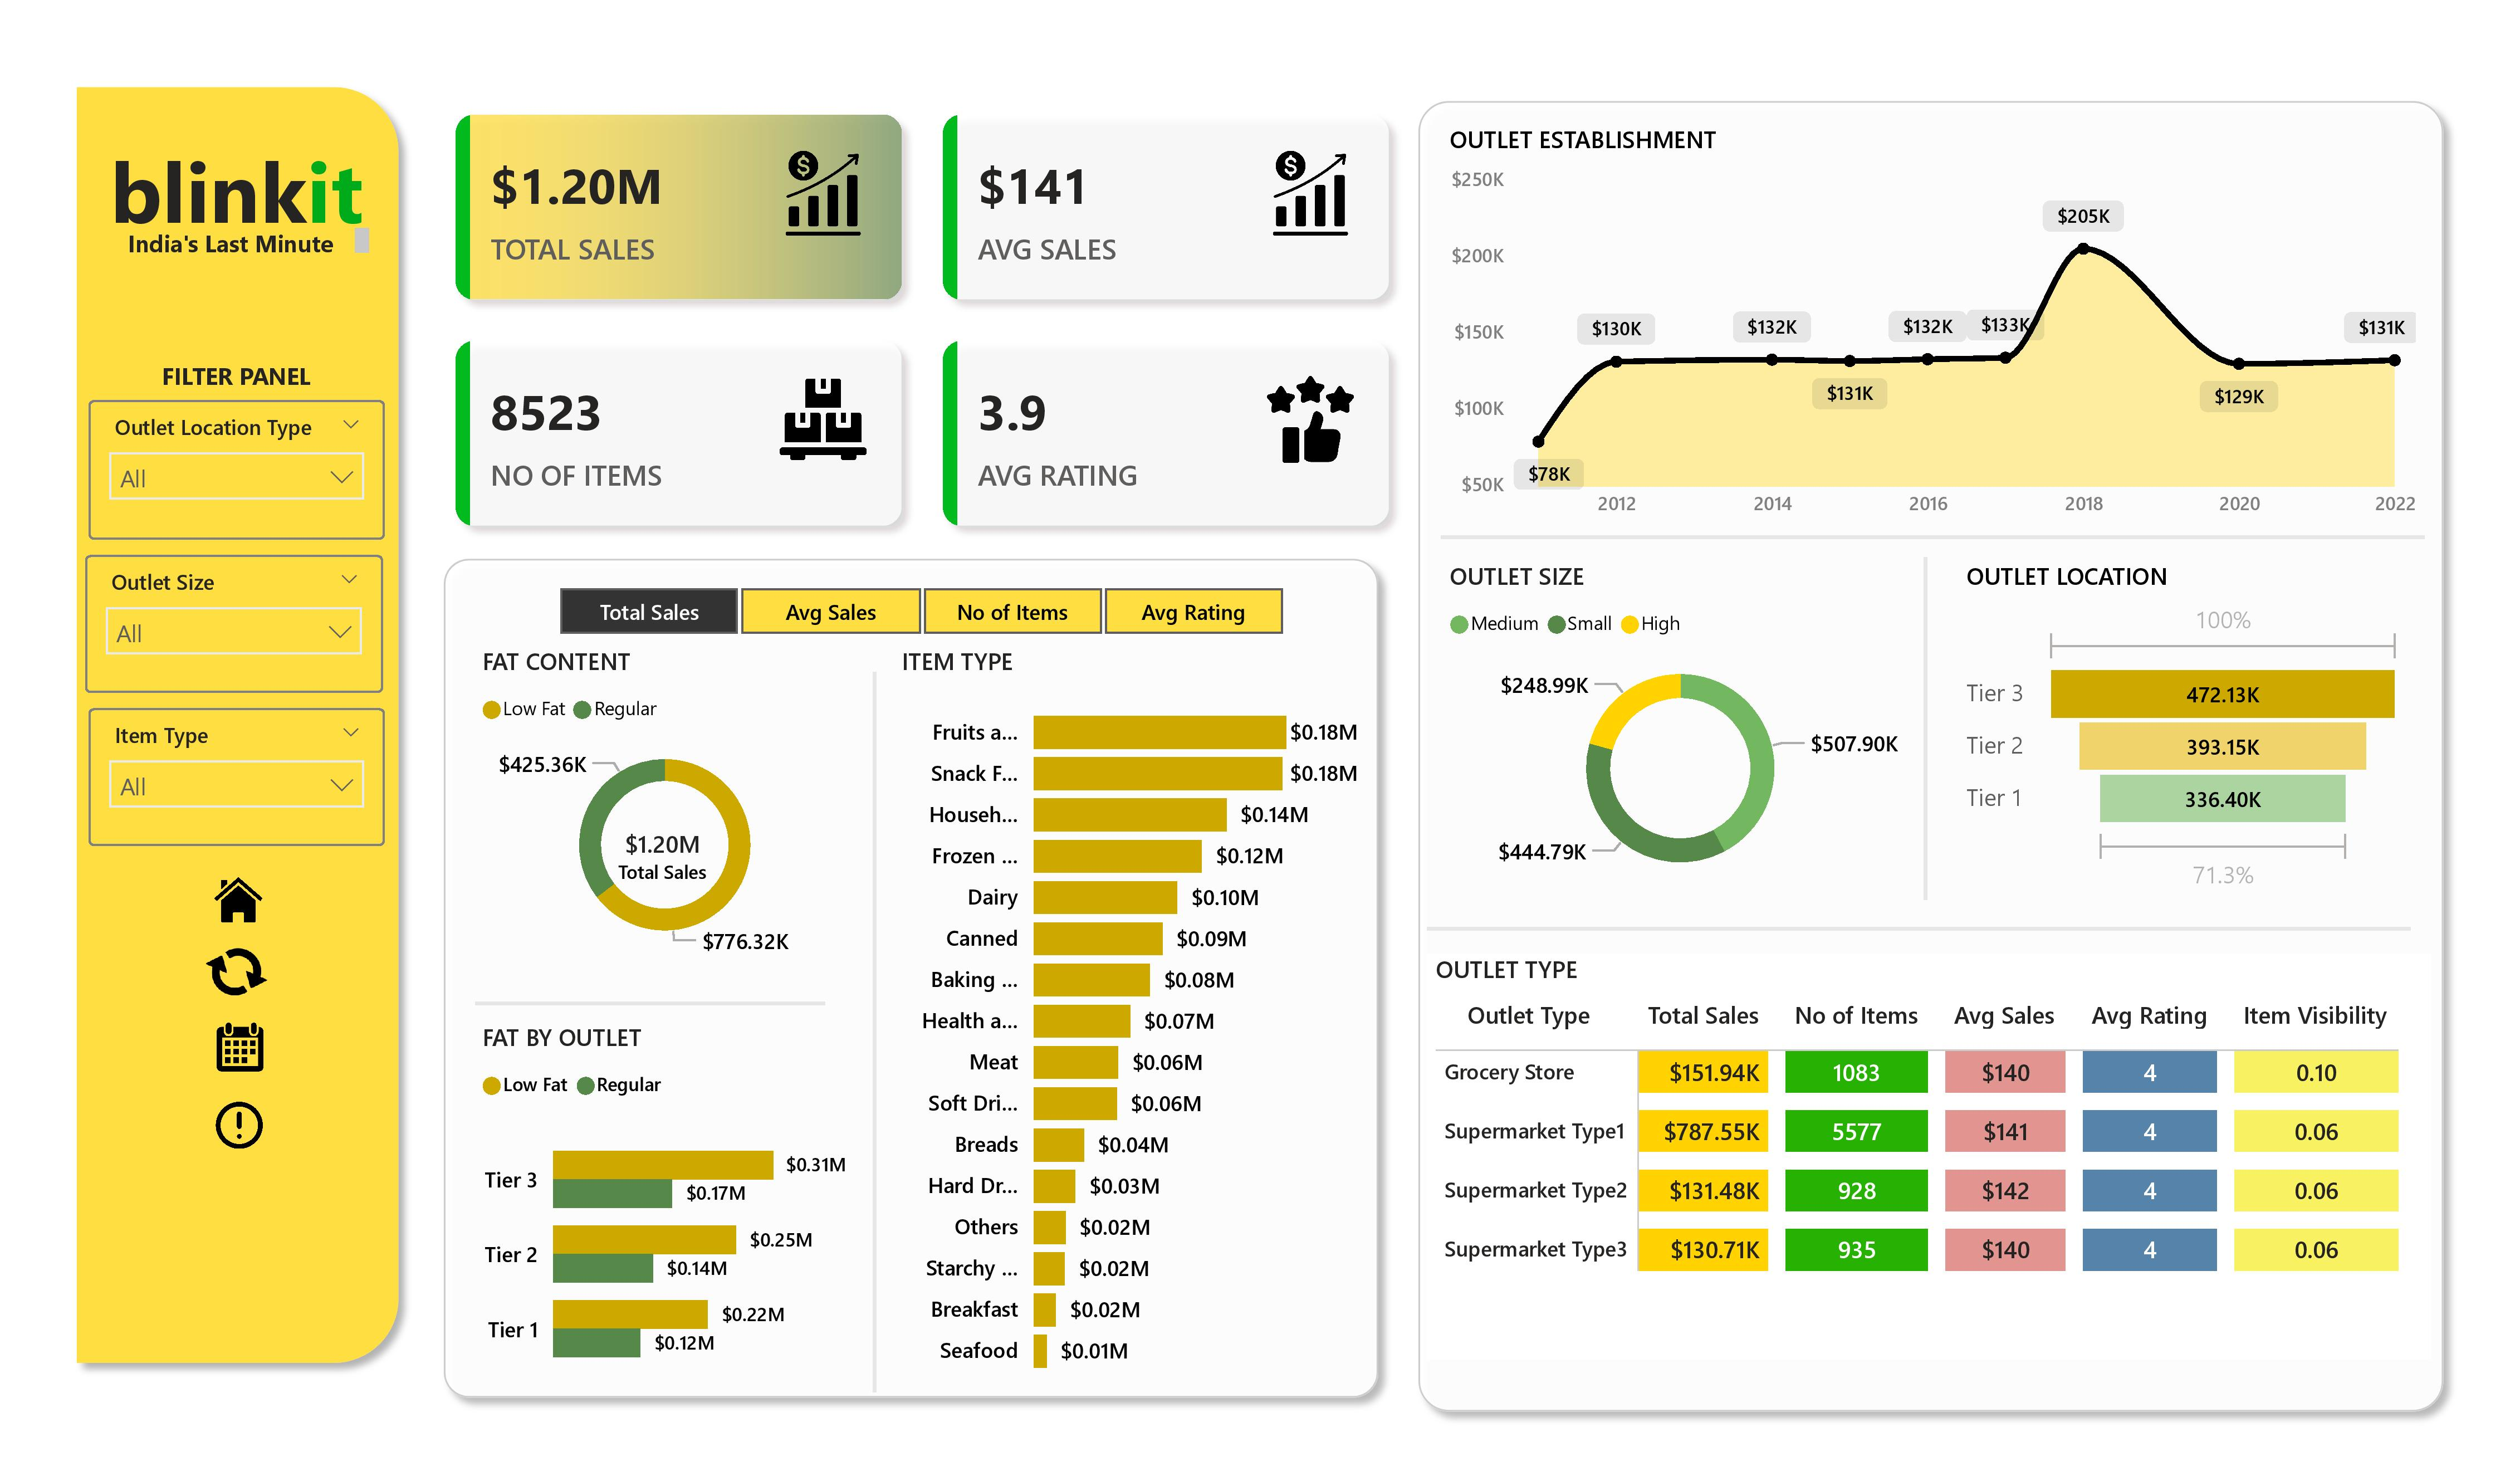

The dashboard page shown, as its layout file describes it:
{"tool":"powerbi","page":{"name":"Blinkit Dashboard","canvas":[1400,800],"ordinal":0},"visuals":[{"type":"shape","box":[10.7,17.4,203.8,750.7],"z":0},{"type":"textbox","box":[27,46.5,169.6,79.5],"z":1000},{"type":"textbox","box":[32.2,101.9,160.9,24.1],"z":2000},{"type":"cardVisual","fields":{"Data":["BlinkIT Grocery Data.Total Sales","BlinkIT Grocery Data.Avg Sales","BlinkIT Grocery Data.No of Items","BlinkIT Grocery Data.Avg Rating"]},"box":[221.2,25.5,571,270.8],"z":3000},{"type":"shape","box":[221.9,288,555.4,499.6],"z":4000},{"type":"slicer","title":"FAT CONTENT","fields":{"Values":["BlinkIT Grocery Data.Outlet Location Type"]},"box":[26.8,206.4,170.2,79.1],"z":5000},{"type":"slicer","fields":{"Values":["Metrics.Metrics"]},"box":[272.1,307,465.1,40.2],"z":6000},{"type":"cardVisual","fields":{"Data":["BlinkIT Grocery Data.Total Sales"]},"box":[312.3,434.3,89.8,59],"z":7000},{"type":"clusteredBarChart","title":"FAT BY OUTLET","fields":{"Y":["BlinkIT Grocery Data.Total Sales"],"Category":["BlinkIT Grocery Data.Outlet Location Type"],"Series":["BlinkIT Grocery Data.Item Fat Content"]},"box":[248.3,562.8,218.9,217.5],"z":8000},{"type":"shape","box":[249.3,538.9,201.1,26.8],"z":9000},{"type":"shape","box":[467.8,361.9,21.4,414.2],"z":10000},{"type":"barChart","title":"ITEM TYPE","fields":{"Y":["BlinkIT Grocery Data.Total Sales"],"Category":["BlinkIT Grocery Data.Item Type"]},"box":[489.3,347.2,272.1,429],"z":11000},{"type":"shape","box":[781.5,25.5,607.2,770.8],"z":12000},{"type":"lineChart","title":"OUTLET ESTABLISHMENT","fields":{"Y":["BlinkIT Grocery Data.Total Sales"],"Category":["BlinkIT Grocery Data.Outlet Establishment Year"]},"box":[804.3,46.9,564.3,234.6],"z":13000},{"type":"shape","box":[804.3,270.8,564.3,26.8],"z":14000},{"type":"donutChart","title":"OUTLET SIZE","fields":{"Y":["BlinkIT Grocery Data.Total Sales"],"Category":["BlinkIT Grocery Data.Outlet Size"]},"box":[804.3,297.6,274.8,195.7],"z":15000},{"type":"shape","box":[1075.1,296.2,14.7,197.1],"z":16000},{"type":"funnel","title":"OUTLET LOCATION","fields":{"Y":["Sum(BlinkIT Grocery Data.Sales)"],"Category":["BlinkIT Grocery Data.Outlet Location Type"]},"box":[1100.5,297.6,261.4,195.7],"z":17000},{"type":"shape","box":[796.3,496,564.3,26.8],"z":18000},{"type":"pivotTable","title":"OUTLET TYPE","fields":{"Rows":["BlinkIT Grocery Data.Outlet Type"],"Values":["BlinkIT Grocery Data.Total Sales","BlinkIT Grocery Data.No of Items","BlinkIT Grocery Data.Avg Sales","BlinkIT Grocery Data.Avg Rating","Avg(BlinkIT Grocery Data.Item Visibility)"]},"box":[796.3,524.1,576.4,233.2],"z":19000},{"type":"slicer","title":"FAT CONTENT","fields":{"Values":["BlinkIT Grocery Data.Outlet Size"]},"box":[25.5,294.9,170.2,79.1],"z":20000},{"type":"slicer","title":"FAT CONTENT","fields":{"Values":["BlinkIT Grocery Data.Item Type"]},"box":[26.8,383.4,170.2,79.1],"z":21000},{"type":"donutChart","title":"FAT CONTENT","fields":{"Y":["BlinkIT Grocery Data.Total Sales"],"Category":["BlinkIT Grocery Data.Item Fat Content"]},"box":[248,347.2,219.8,185],"z":22000},{"type":"textbox","box":[30.8,178.3,162.2,30.8],"z":23000},{"type":"image","box":[94,471.7,38.2,42.6],"z":24000},{"type":"image","box":[92.6,558.4,42.6,39.7],"z":25000},{"type":"image","box":[94,603.9,38.2,36.7],"z":26000},{"type":"image","box":[88.2,509.9,47,47],"z":27000}]}

Visuals, with their boxes on the page's 1400x800 design canvas (x1, y1, x2, y2). These are canvas units, not pixel positions in the 2520x1476 screenshot, which may show the page scaled, cropped or inside an application window:
shape: [x1=11, y1=17, x2=214, y2=768]
textbox: [x1=27, y1=46, x2=197, y2=126]
textbox: [x1=32, y1=102, x2=193, y2=126]
cardVisual - BlinkIT Grocery Data.Total Sales x BlinkIT Grocery Data.Avg Sales: [x1=221, y1=26, x2=792, y2=296]
shape: [x1=222, y1=288, x2=777, y2=788]
"FAT CONTENT" slicer: [x1=27, y1=206, x2=197, y2=286]
slicer - Metrics.Metrics: [x1=272, y1=307, x2=737, y2=347]
cardVisual - BlinkIT Grocery Data.Total Sales: [x1=312, y1=434, x2=402, y2=493]
"FAT BY OUTLET" clusteredBarChart: [x1=248, y1=563, x2=467, y2=780]
shape: [x1=249, y1=539, x2=450, y2=566]
shape: [x1=468, y1=362, x2=489, y2=776]
"ITEM TYPE" barChart: [x1=489, y1=347, x2=761, y2=776]
shape: [x1=782, y1=26, x2=1389, y2=796]
"OUTLET ESTABLISHMENT" lineChart: [x1=804, y1=47, x2=1369, y2=282]
shape: [x1=804, y1=271, x2=1369, y2=298]
"OUTLET SIZE" donutChart: [x1=804, y1=298, x2=1079, y2=493]
shape: [x1=1075, y1=296, x2=1090, y2=493]
"OUTLET LOCATION" funnel: [x1=1100, y1=298, x2=1362, y2=493]
shape: [x1=796, y1=496, x2=1361, y2=523]
"OUTLET TYPE" pivotTable: [x1=796, y1=524, x2=1373, y2=757]
"FAT CONTENT" slicer: [x1=26, y1=295, x2=196, y2=374]
"FAT CONTENT" slicer: [x1=27, y1=383, x2=197, y2=462]
"FAT CONTENT" donutChart: [x1=248, y1=347, x2=468, y2=532]
textbox: [x1=31, y1=178, x2=193, y2=209]
image: [x1=94, y1=472, x2=132, y2=514]
image: [x1=93, y1=558, x2=135, y2=598]
image: [x1=94, y1=604, x2=132, y2=641]
image: [x1=88, y1=510, x2=135, y2=557]
